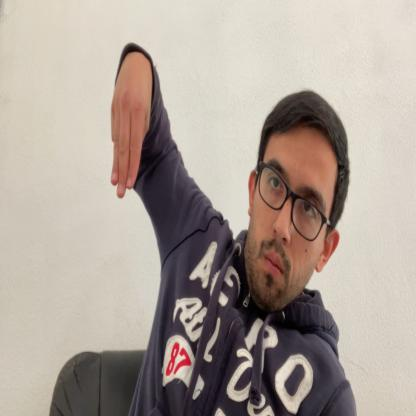M: (110, 60, 151, 199)
